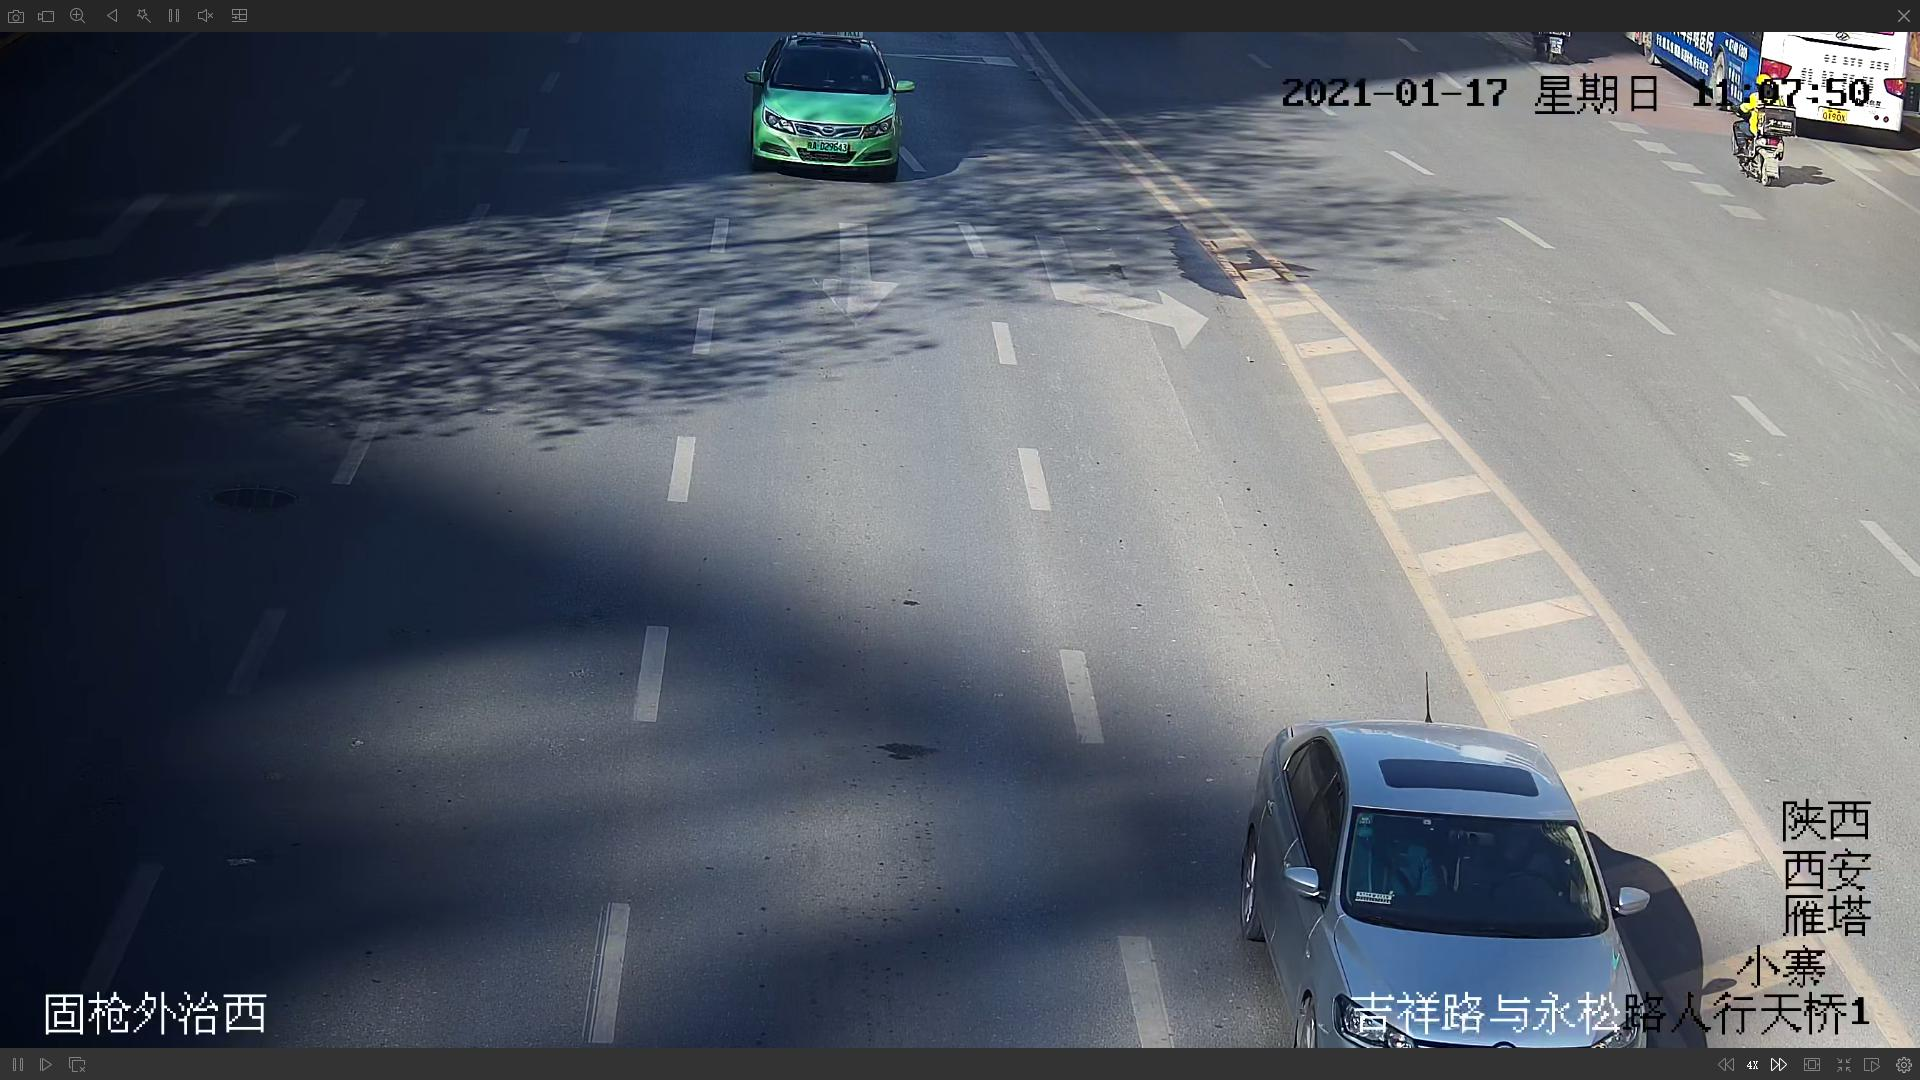grass-green: (738, 34, 913, 179)
silver-gray: (1244, 712, 1665, 1050)
